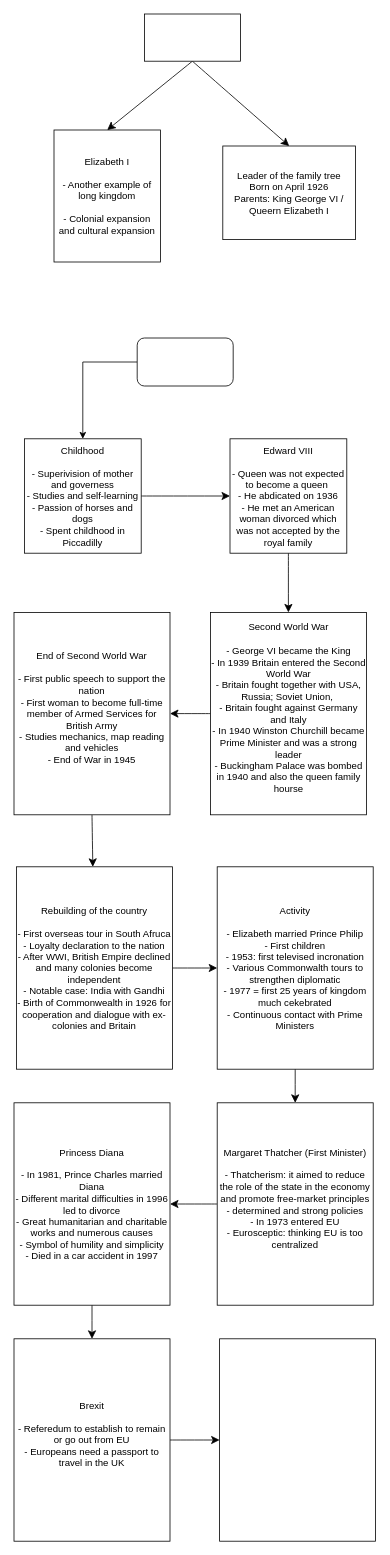
This 390x1555 diagram has some shape labels left out. The shapes that lost their labels are listed below. From the top down, each one's box as (x1, y1, x2, y2) in pixels, then its label:
(144, 13, 240, 61): Elizabeth II
(136, 337, 233, 386): Life of Elizabeth II
(219, 1338, 376, 1541): Last years of kingdom - 70 plus years of Kingdom - Died in 1922
